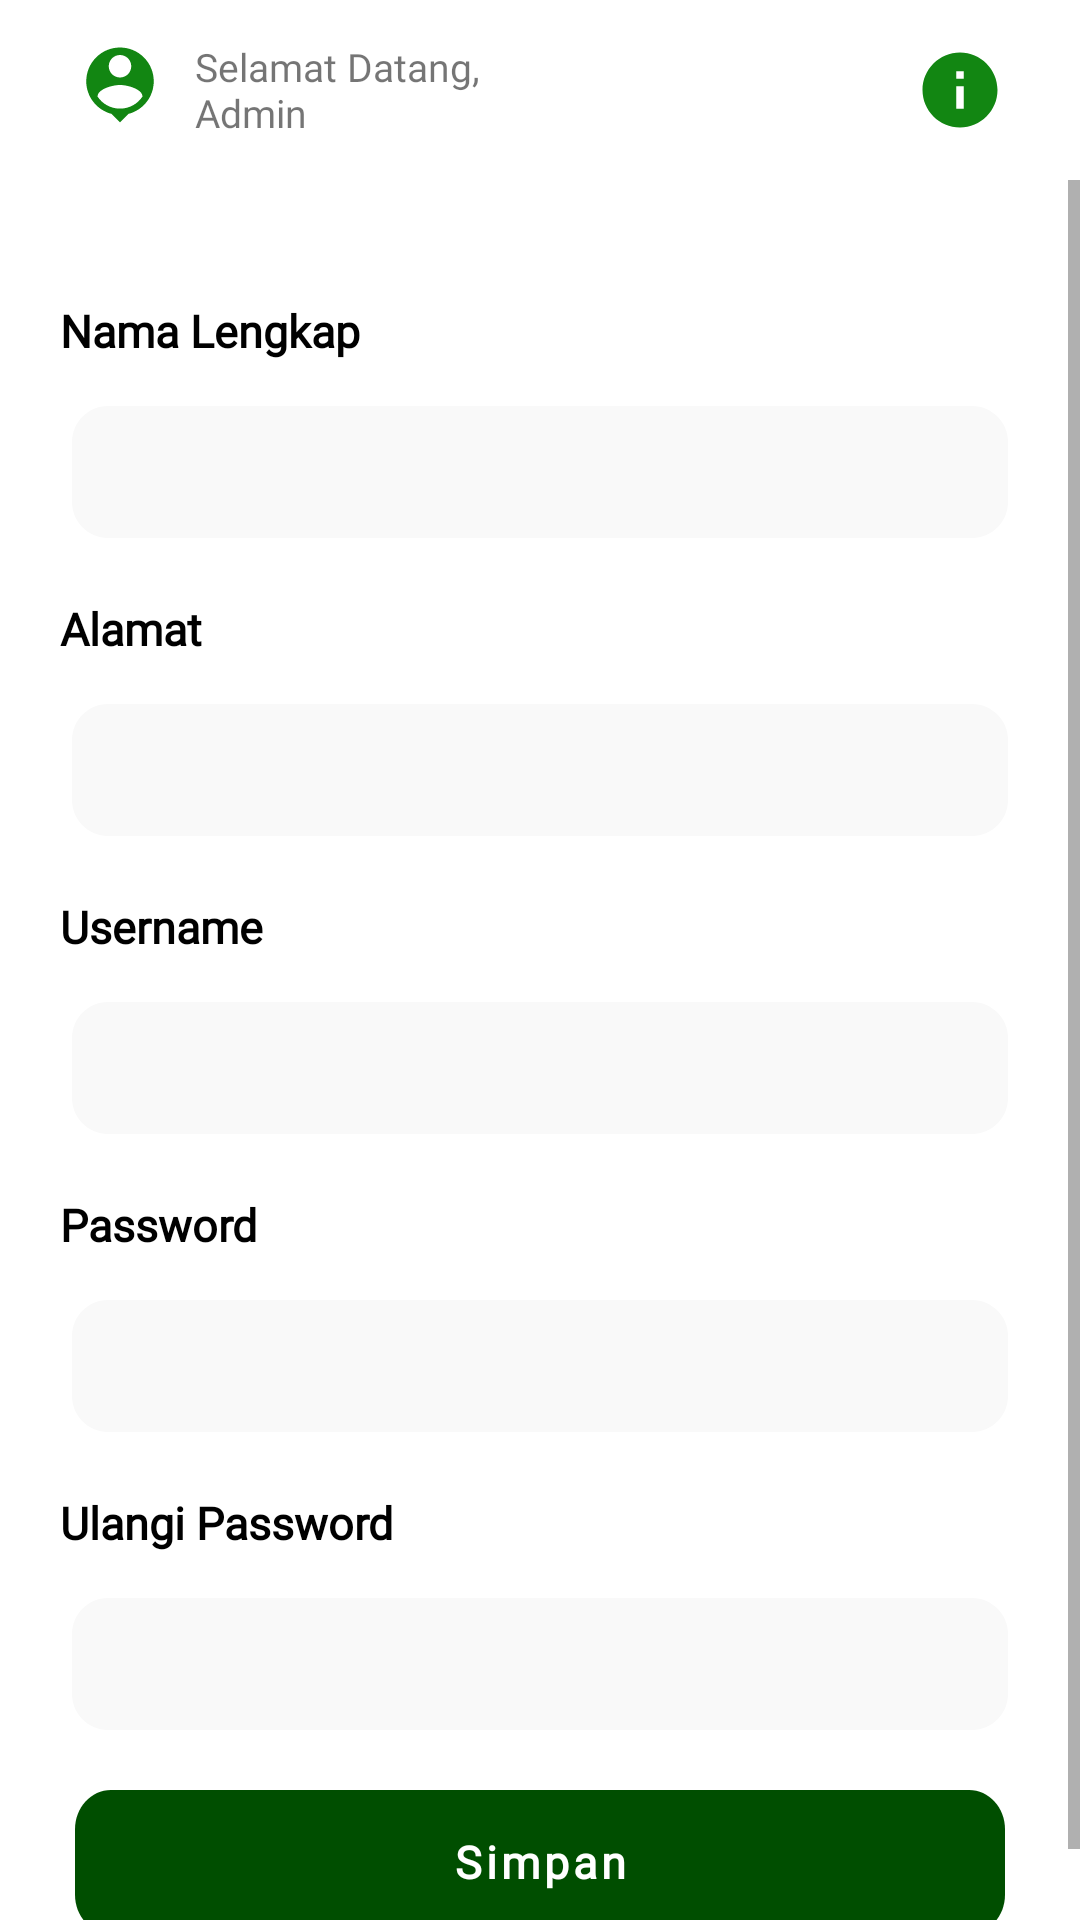

Icons on this 1080px×1920px Android screen, each with the point to tap as (x=x, y=y):
info: (x=960, y=90)
person pin: (x=120, y=84)
